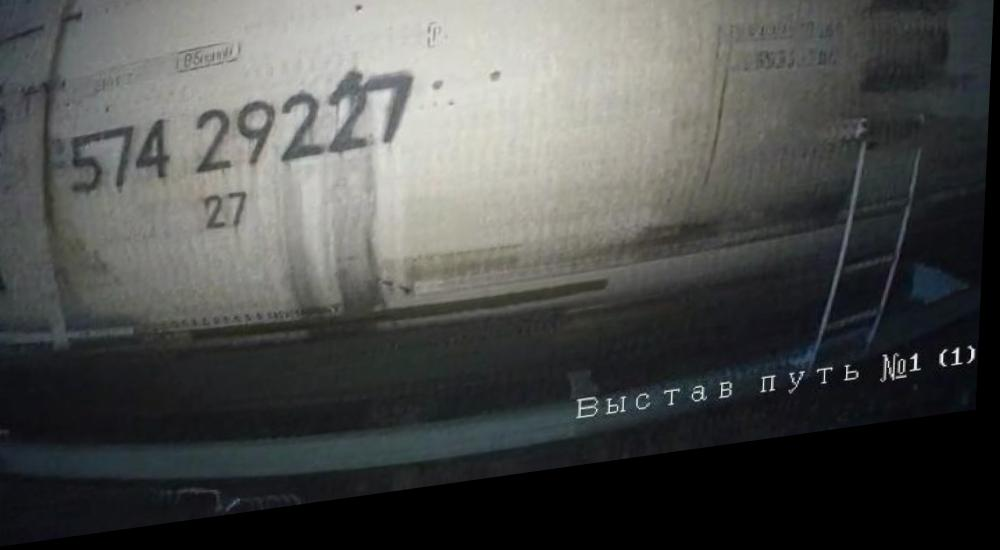Wagon-number: (66, 80, 420, 205)
